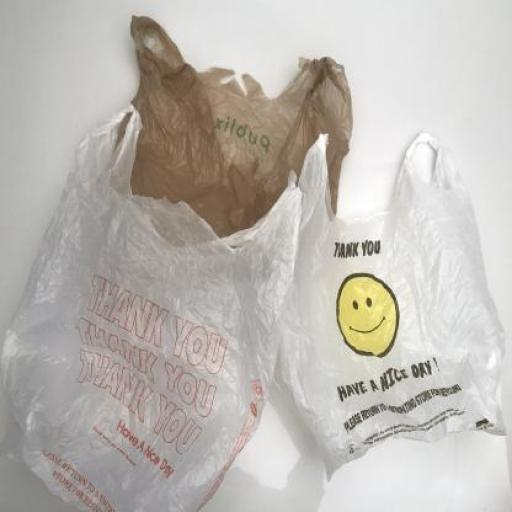plastic bag: (1, 112, 301, 508), (286, 138, 508, 476), (129, 11, 368, 235)
